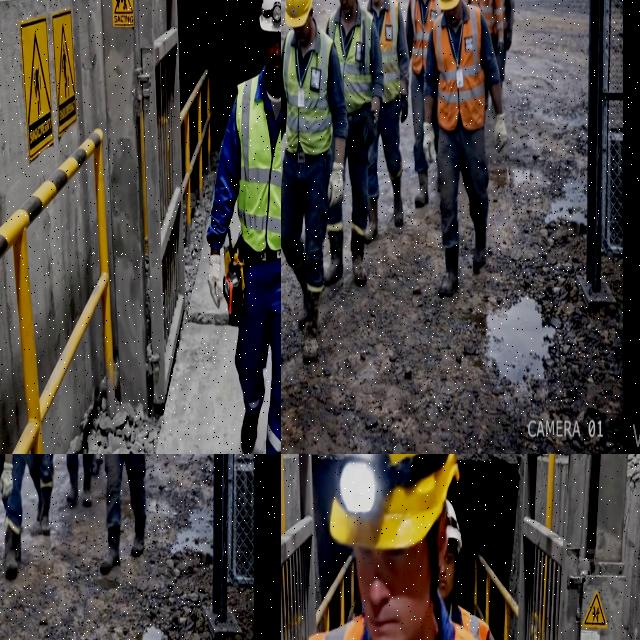Vest: (236, 76, 280, 251), (433, 4, 485, 132), (283, 29, 332, 156), (327, 7, 372, 114), (409, 0, 440, 74), (380, 0, 399, 103), (468, 0, 503, 37), (309, 618, 363, 639), (501, 0, 506, 29)
Worker: (207, 0, 280, 453), (308, 454, 474, 639), (424, 0, 507, 296), (281, 0, 347, 362), (327, 0, 383, 286), (365, 0, 408, 242), (406, 0, 439, 207), (100, 454, 145, 573), (4, 454, 28, 578), (29, 454, 53, 535), (468, 0, 503, 54), (497, 0, 514, 84), (83, 454, 94, 506), (0, 454, 12, 499), (463, 0, 467, 2)
helmet: (330, 454, 458, 549), (285, 0, 313, 27), (260, 0, 280, 32), (439, 0, 459, 10)
